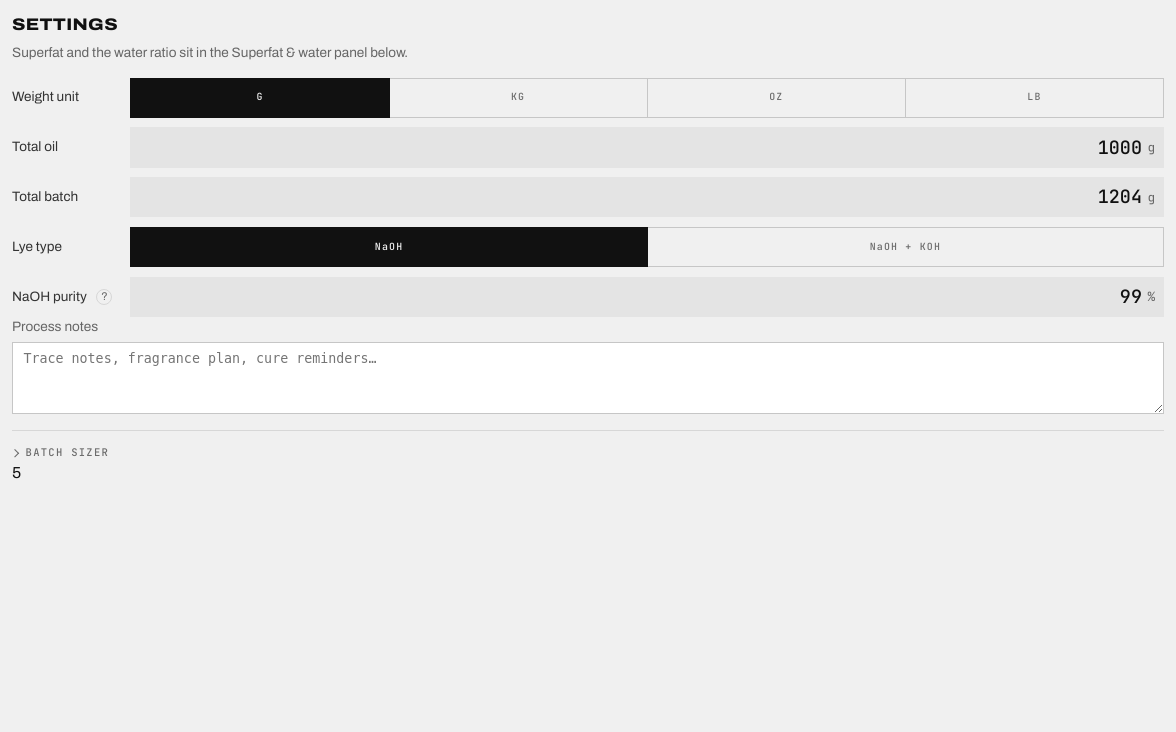
Scenario: dual lye type reveals the KOH blend field
The width and height of the screenshot is (1176, 732).
Click the radio button with aria-label "NaOH + KOH blend" at (905, 247), box [647, 227, 1164, 267]
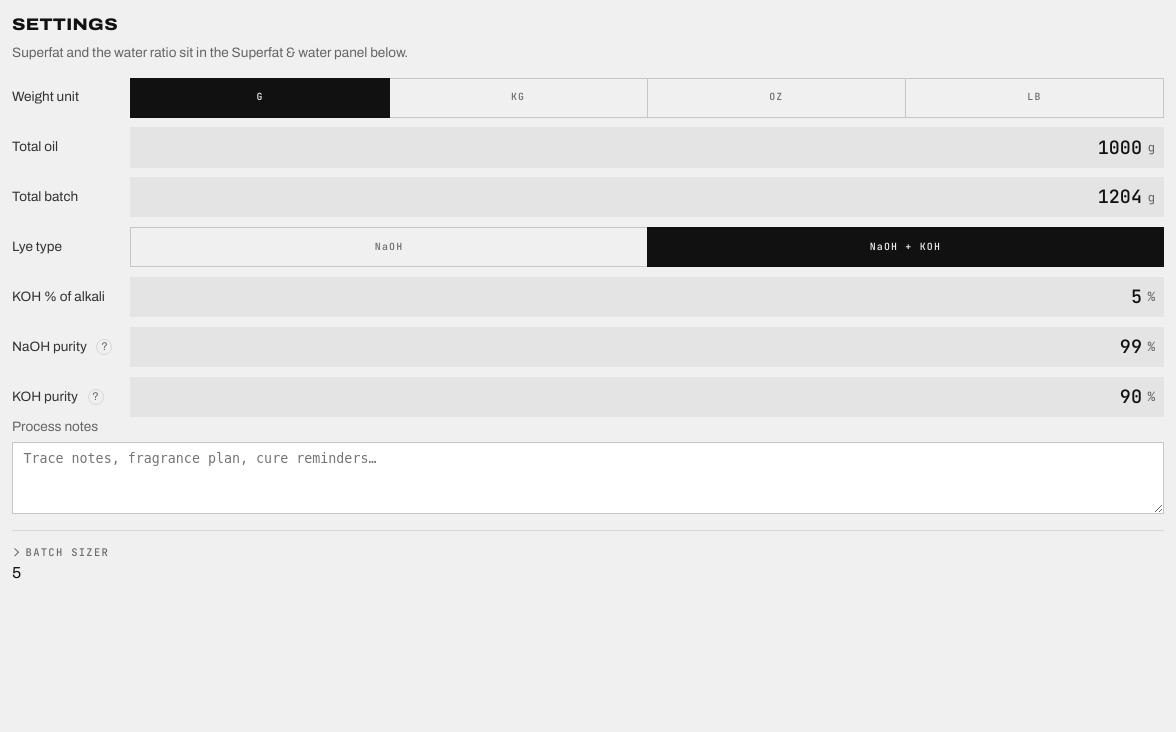
Expected: the number field named "KOH % of alkali (by weight)" is shown, [139, 283, 1142, 311]
